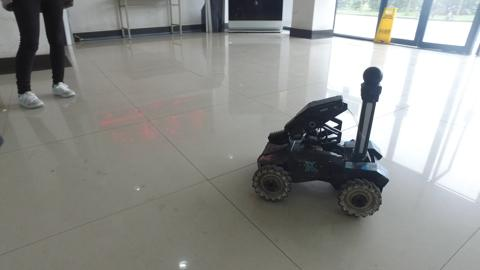chariot: (250, 64, 389, 219)
